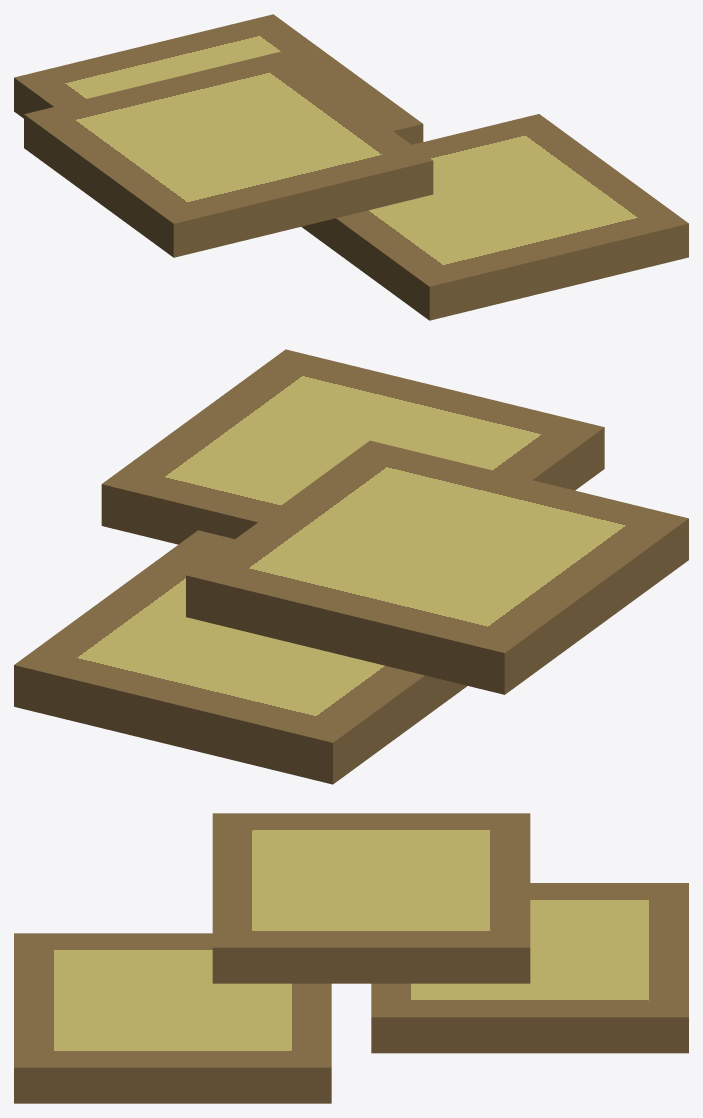
Rendered from Cartofi.fbx.
3 renders of one model, top to bottom at view 1: azimuth 30°, elevation 25°; view 2: azimuth 150°, elevation 25°; view 3: azimuth 270°, elevation 25°, orthographic. The views are drawn at different scales.
Visible parts, largest first — view 1: cube, cube_1, cube_2; view 2: cube, cube_2, cube_1; view 3: cube, cube_1, cube_2.
Part boxes in pixels (x1,y1,x2,y2): cube: [24, 51, 433, 257]; cube_1: [301, 114, 688, 320]; cube_2: [14, 14, 423, 144]; cube: [186, 440, 688, 694]; cube_2: [14, 530, 467, 784]; cube_1: [101, 349, 604, 544]; cube: [212, 813, 530, 983]; cube_1: [14, 933, 331, 1103]; cube_2: [371, 883, 688, 1053].
Bounding box in the file's own units: 81.25 × 12.5 × 106.
Materials: 1 (1 with a texture image).
